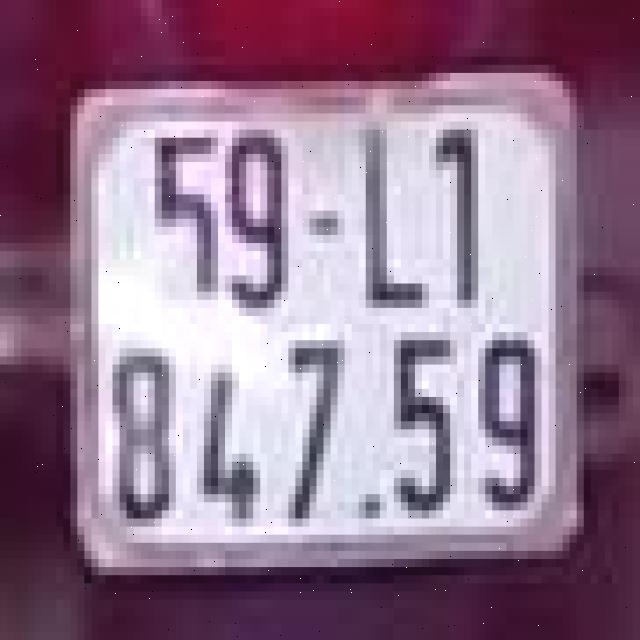1: (425, 113, 496, 308)
4: (197, 340, 267, 527)
5: (383, 328, 461, 523), (151, 113, 215, 316)
7: (274, 320, 359, 523)
8: (98, 328, 183, 539)
9: (468, 320, 552, 514), (225, 113, 302, 324)
L: (345, 97, 429, 308)
